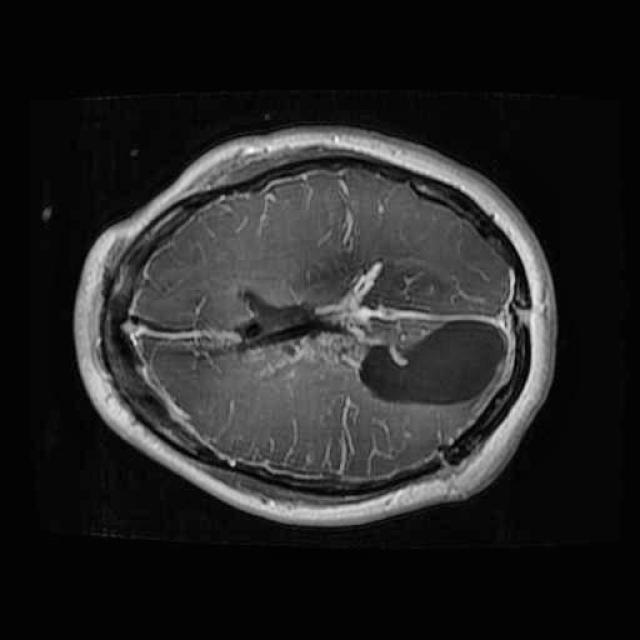Non-Tumor: (218, 244, 524, 430)
